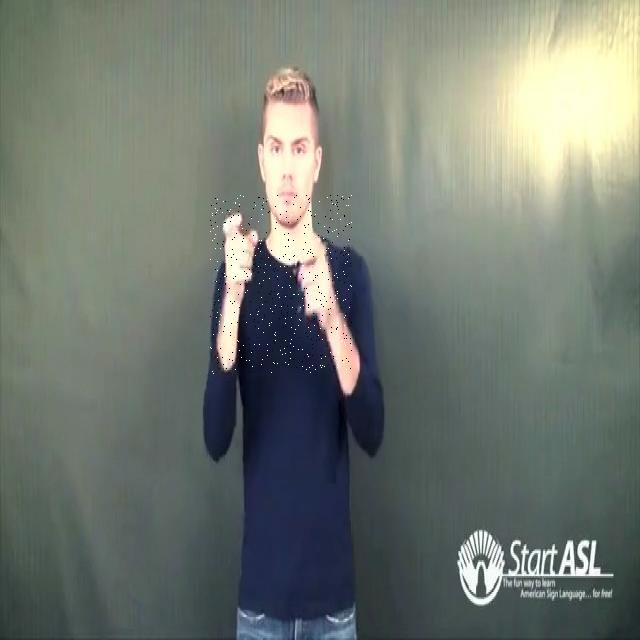manager: (210, 195, 352, 374)
